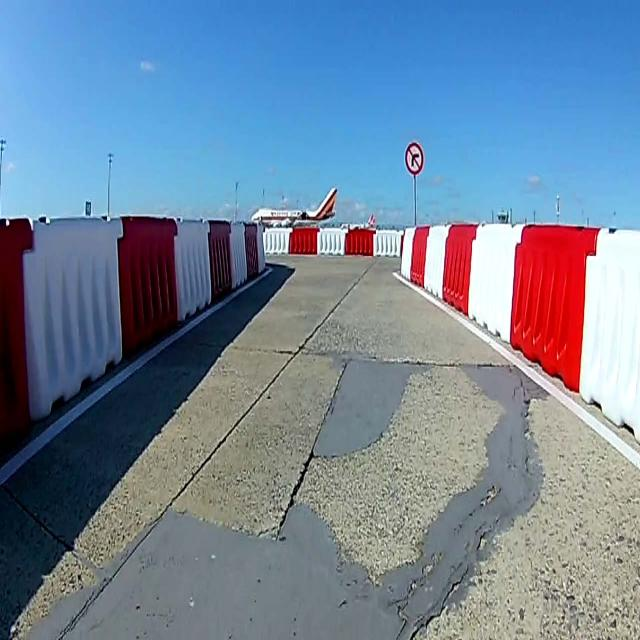sagadonulmez: (404, 141, 424, 176)
